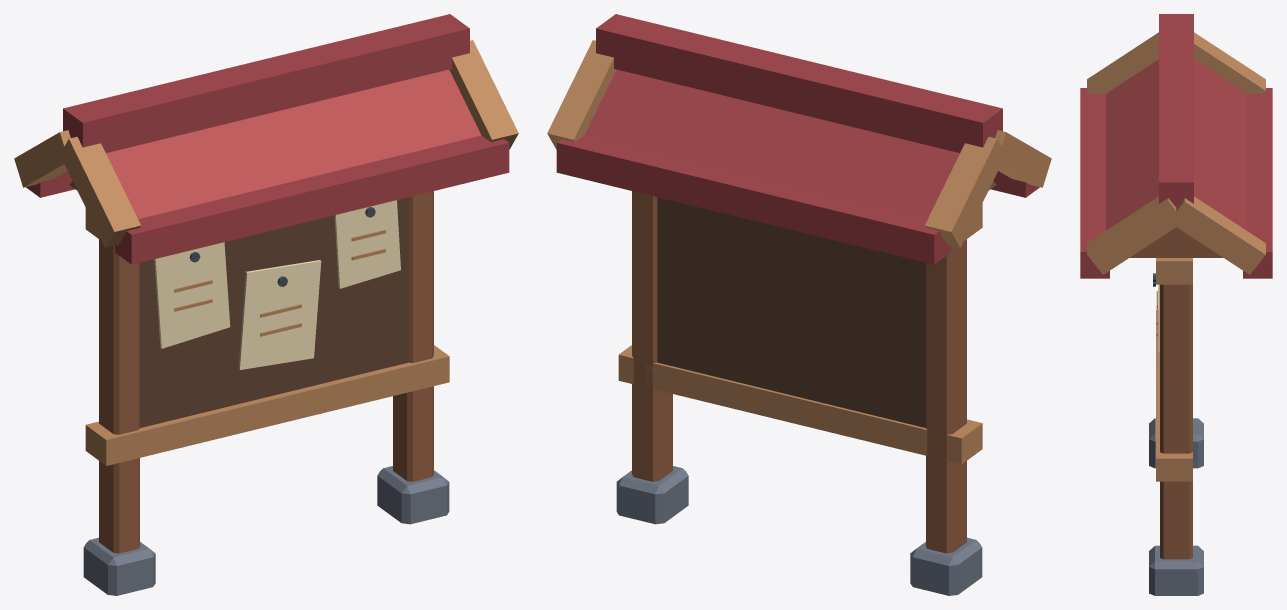
The model's file is notice_board.glb.
3 views of the same model, side by side, from view 1: azimuth 30°, elevation 25°; view 2: azimuth 150°, elevation 25°; view 3: azimuth 270°, elevation 25° (orthographic). The views are drawn at different scales.
Parts seen in each view (by area): view 1: notice_board_建筑共用调色板; view 2: notice_board_建筑共用调色板; view 3: notice_board_建筑共用调色板.
Part boxes in pixels (box(x1,y1,x2,y2)): notice_board_建筑共用调色板: box(14, 14, 518, 595); notice_board_建筑共用调色板: box(547, 14, 1051, 595); notice_board_建筑共用调色板: box(1080, 14, 1272, 595).
Bounding box in the file's own units: 2.12 × 2.38 × 0.98.
Materials: 1 (1 with a texture image).
